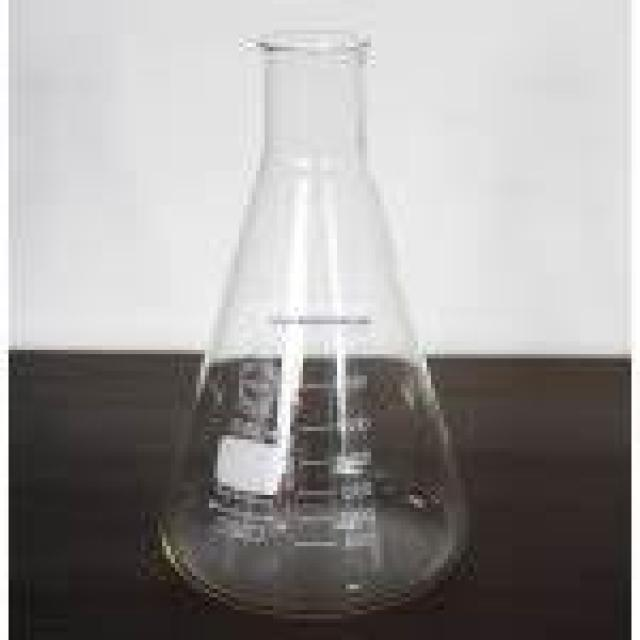Titrarion: (128, 21, 471, 623)
